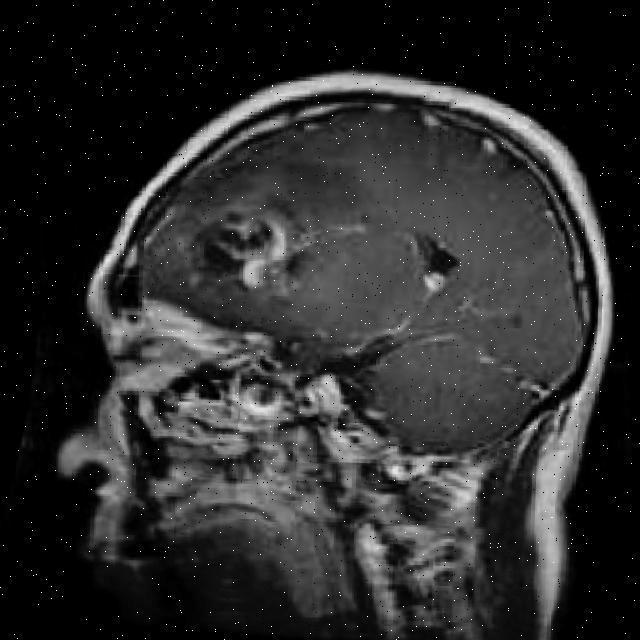MCI: (190, 216, 255, 280)
